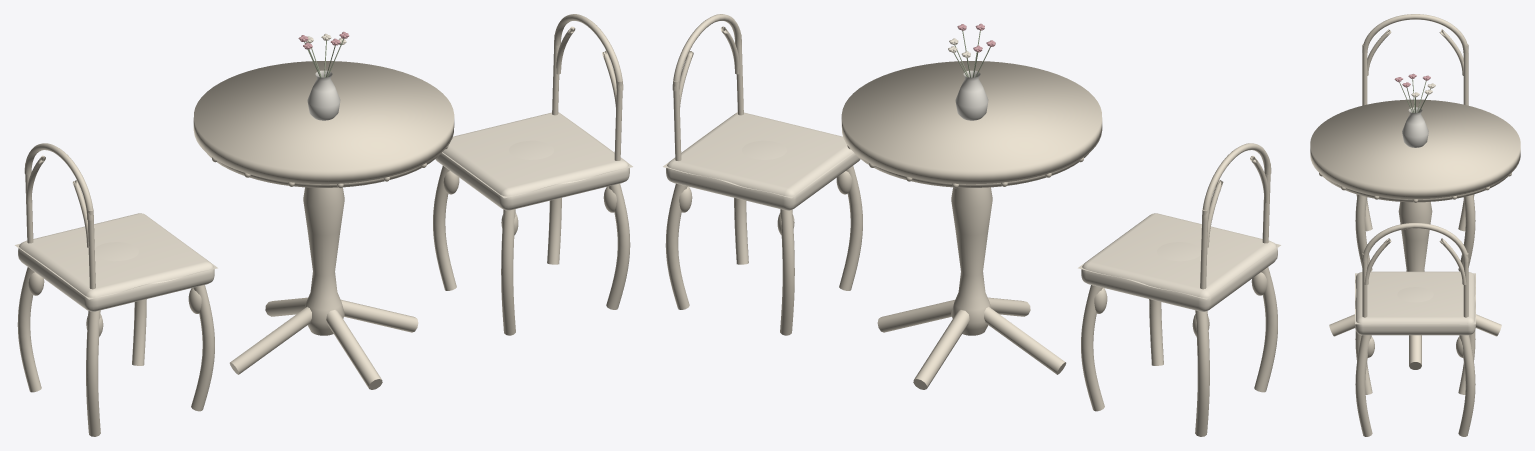
Rendered from cafe.glb.
The picture shows the model from 3 angles, left to right: view 1: azimuth 30°, elevation 25°; view 2: azimuth 150°, elevation 25°; view 3: azimuth 270°, elevation 25°; orthographic projection. The views are drawn at different scales.
Visible parts, largest first — view 1: cafe__Warm aged ivory lacquer, cafe__Natural cream linen, cafe__Glazed ivory ceramic; view 2: cafe__Warm aged ivory lacquer, cafe__Natural cream linen, cafe__Glazed ivory ceramic; view 3: cafe__Warm aged ivory lacquer, cafe__Natural cream linen, cafe__Glazed ivory ceramic.
Boxes of the visible parts, <box> form: cafe__Warm aged ivory lacquer: <box>17,14,630,436</box>; cafe__Natural cream linen: <box>15,33,632,311</box>; cafe__Glazed ivory ceramic: <box>307,70,340,120</box>; cafe__Warm aged ivory lacquer: <box>665,14,1277,436</box>; cafe__Natural cream linen: <box>663,38,1280,311</box>; cafe__Glazed ivory ceramic: <box>955,70,988,120</box>; cafe__Warm aged ivory lacquer: <box>1310,14,1520,436</box>; cafe__Natural cream linen: <box>1355,83,1475,335</box>; cafe__Glazed ivory ceramic: <box>1402,107,1428,147</box>.
Bounding box in the file's own units: 1.81 × 1.02 × 0.75.
